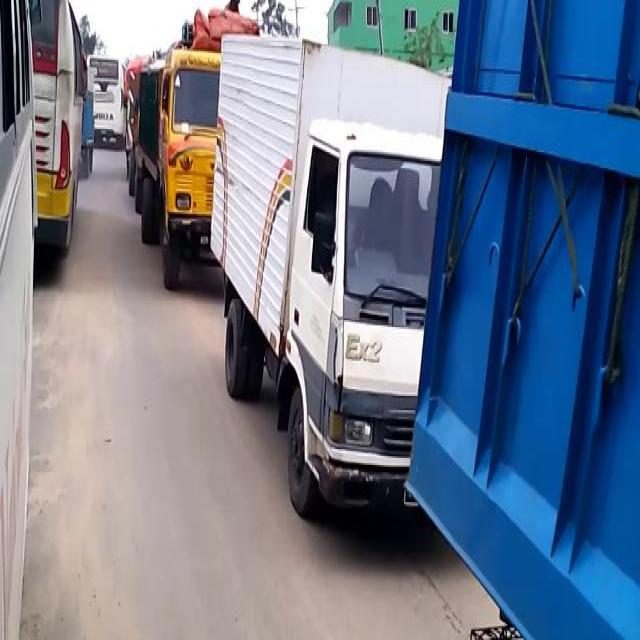bus: (30, 0, 85, 248), (86, 49, 125, 144)
pickup: (207, 26, 453, 519)
truck: (136, 46, 224, 288)
